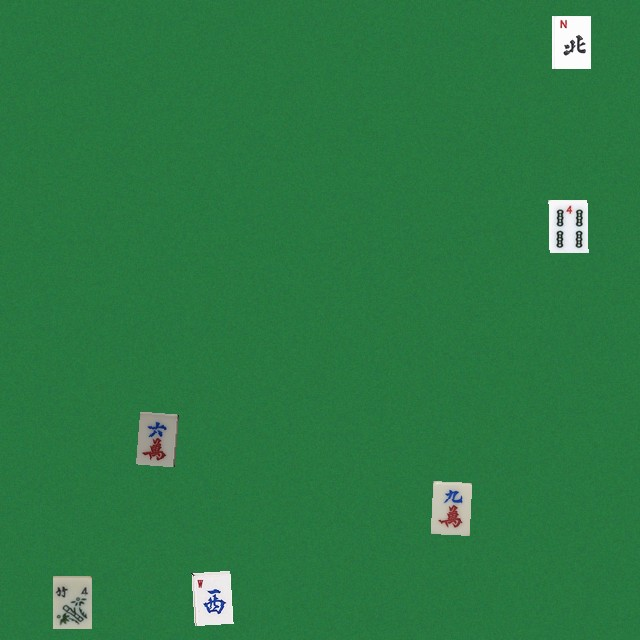tile: (52, 575, 91, 628), (430, 481, 469, 534), (548, 199, 587, 252), (135, 411, 174, 464), (551, 15, 590, 68), (191, 570, 230, 623)
